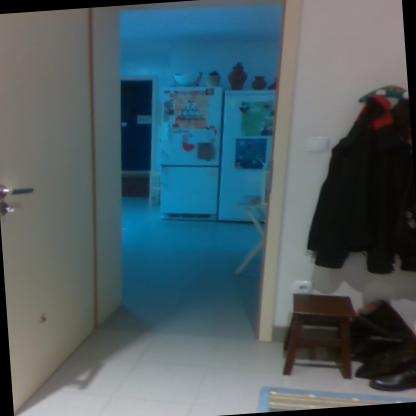open: (70, 5, 324, 409)
